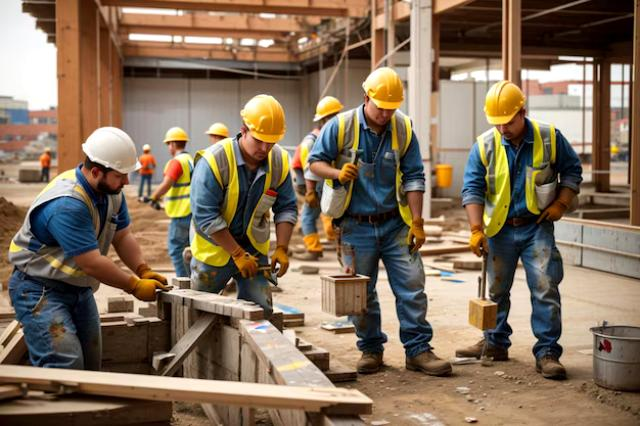helmet: (78, 124, 142, 174), (239, 92, 291, 144), (482, 74, 524, 122), (364, 66, 406, 110), (312, 94, 346, 121), (162, 125, 192, 143), (204, 122, 230, 138)
vest: (12, 176, 132, 288), (198, 139, 290, 269), (329, 107, 417, 237), (476, 125, 562, 234), (169, 154, 195, 216), (295, 126, 317, 182)
